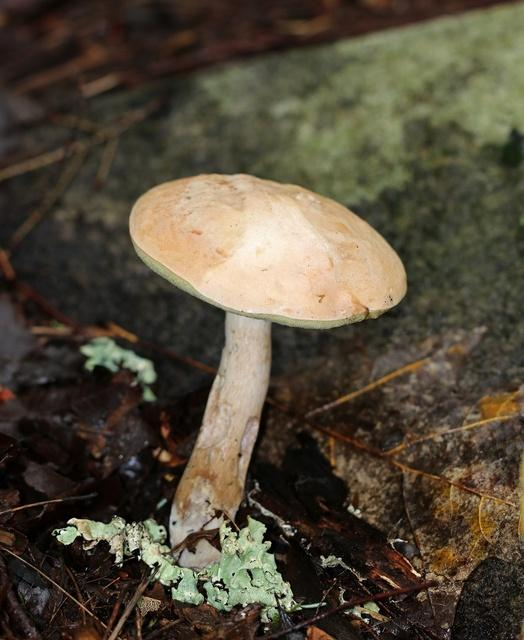edible_mushroom: (127, 170, 408, 570)
